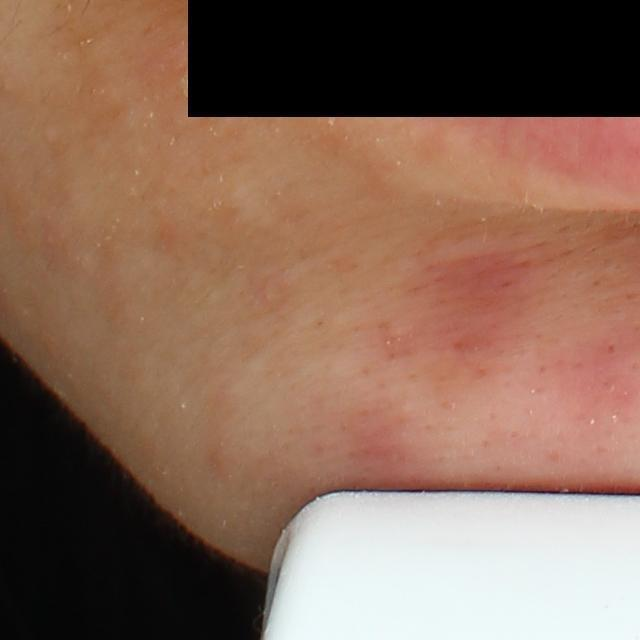hypertrophic_scar: (225, 184, 281, 237)
